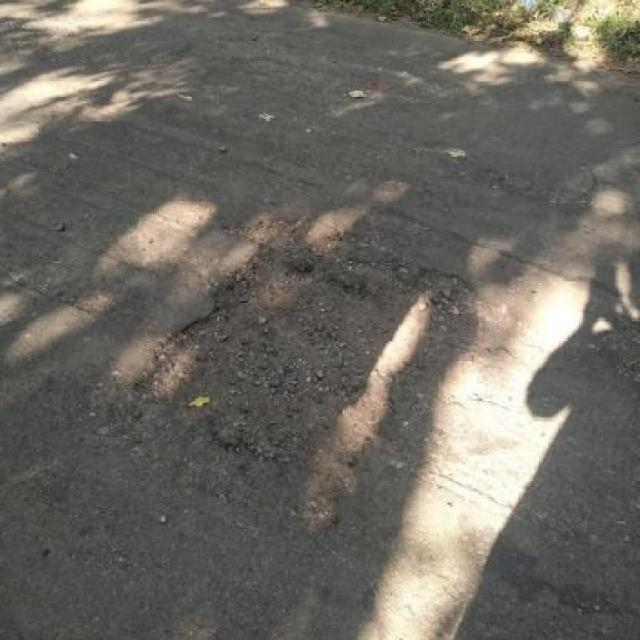pothole: (129, 242, 484, 478)
